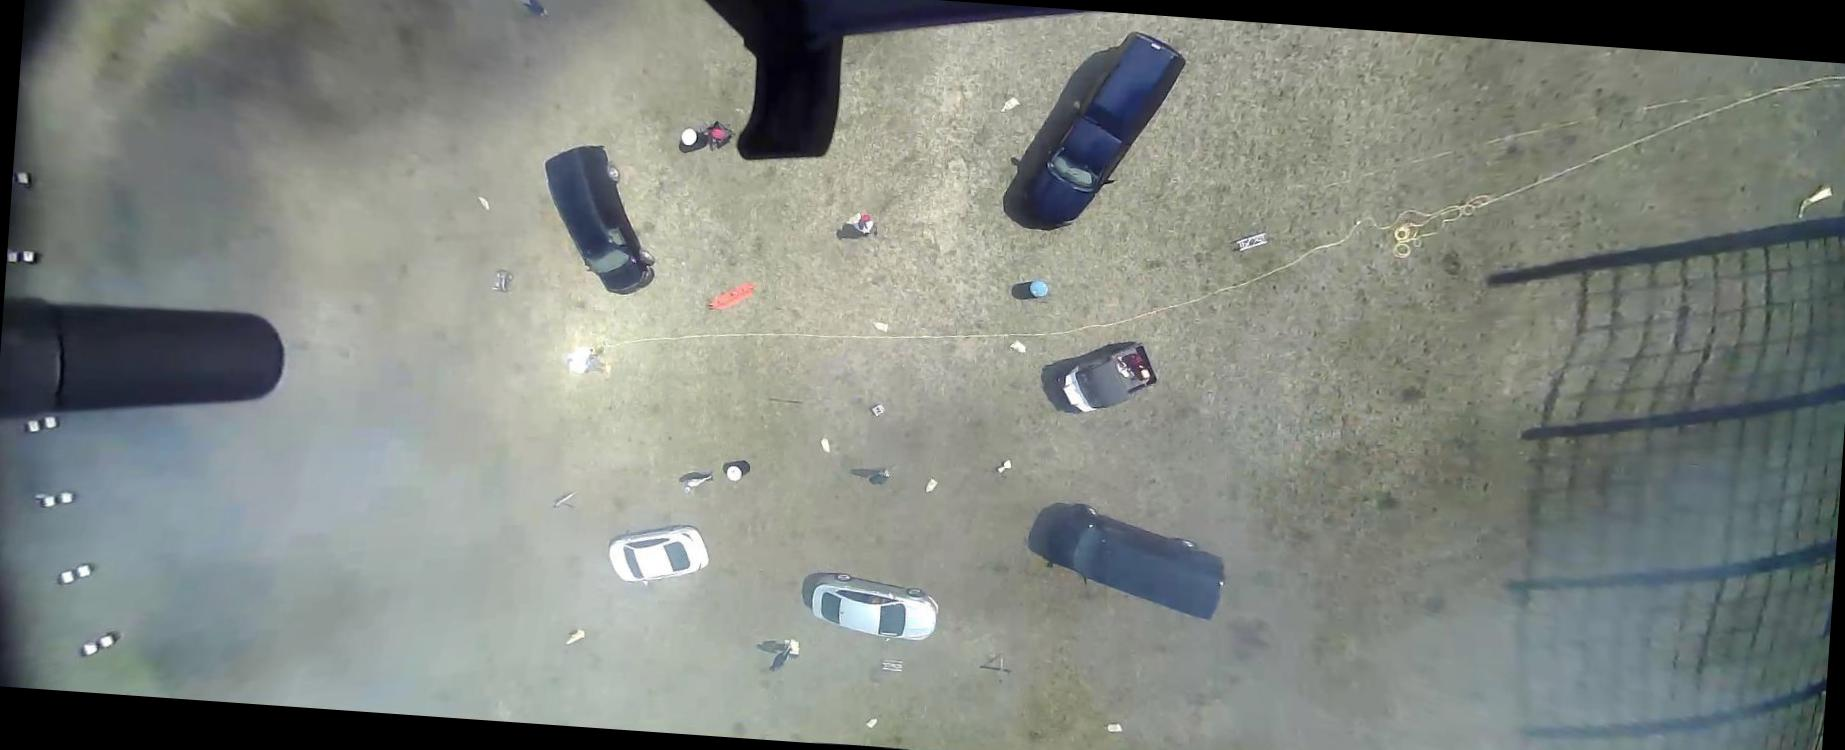vehicle: (1019, 26, 1188, 237), (1041, 502, 1228, 620), (535, 140, 662, 297), (806, 571, 940, 646), (1053, 336, 1159, 418), (606, 519, 710, 591)
